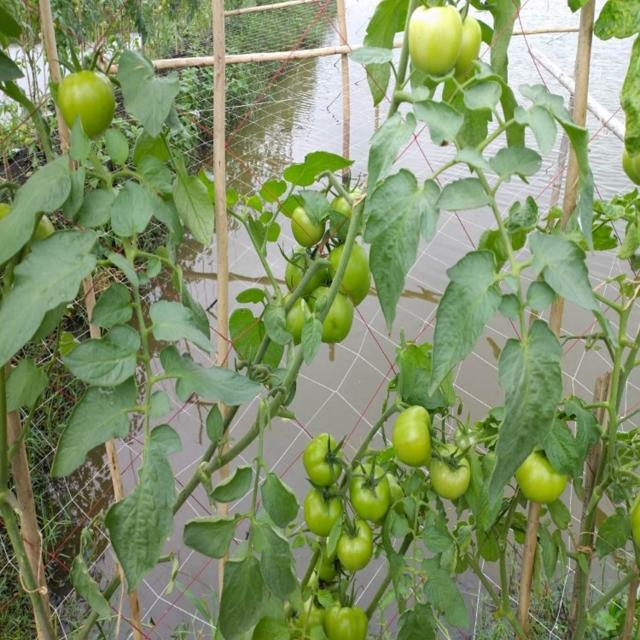tomato: (406, 3, 463, 78), (61, 71, 120, 139), (430, 445, 473, 505), (330, 239, 373, 297), (517, 455, 570, 502), (392, 407, 434, 464), (311, 286, 354, 340), (352, 463, 393, 517), (304, 489, 346, 541), (338, 521, 378, 572), (305, 434, 339, 485), (284, 601, 321, 640), (327, 604, 367, 640), (284, 256, 319, 294), (460, 17, 481, 73), (296, 211, 323, 246), (618, 146, 640, 187), (334, 192, 354, 232), (287, 296, 308, 332)
